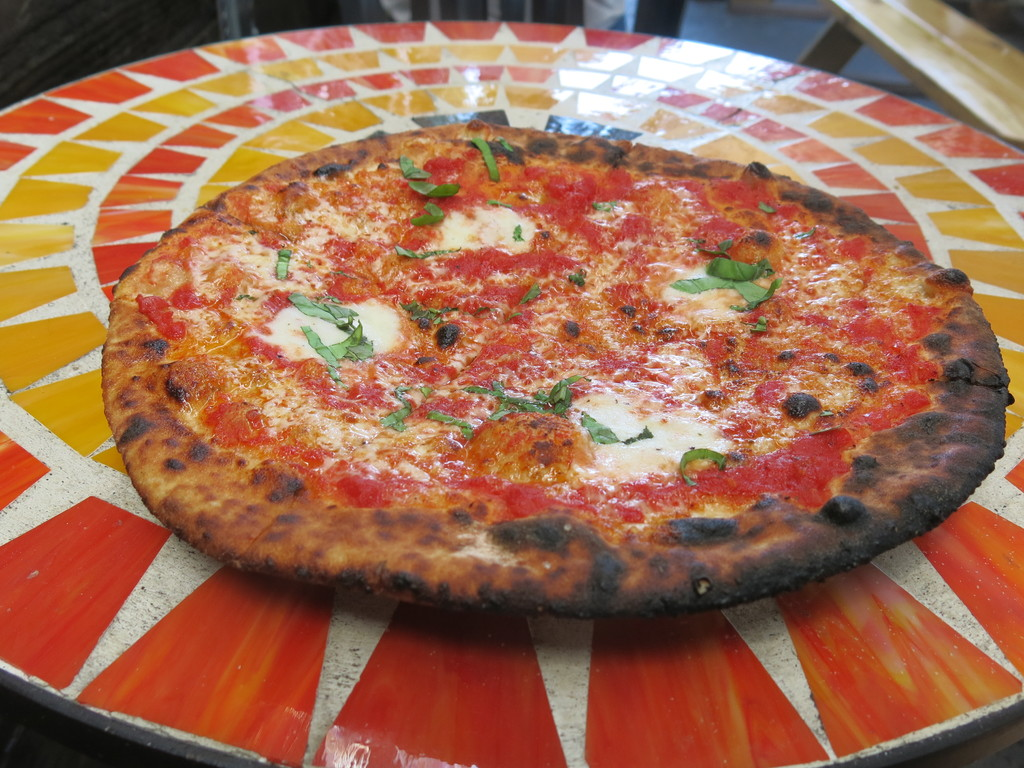Pizza: (98, 126, 986, 650)
